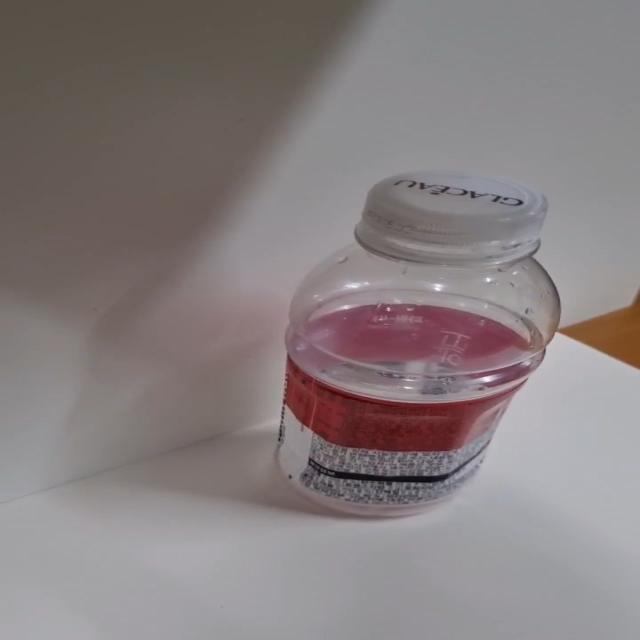Plastic: (274, 169, 562, 522)
